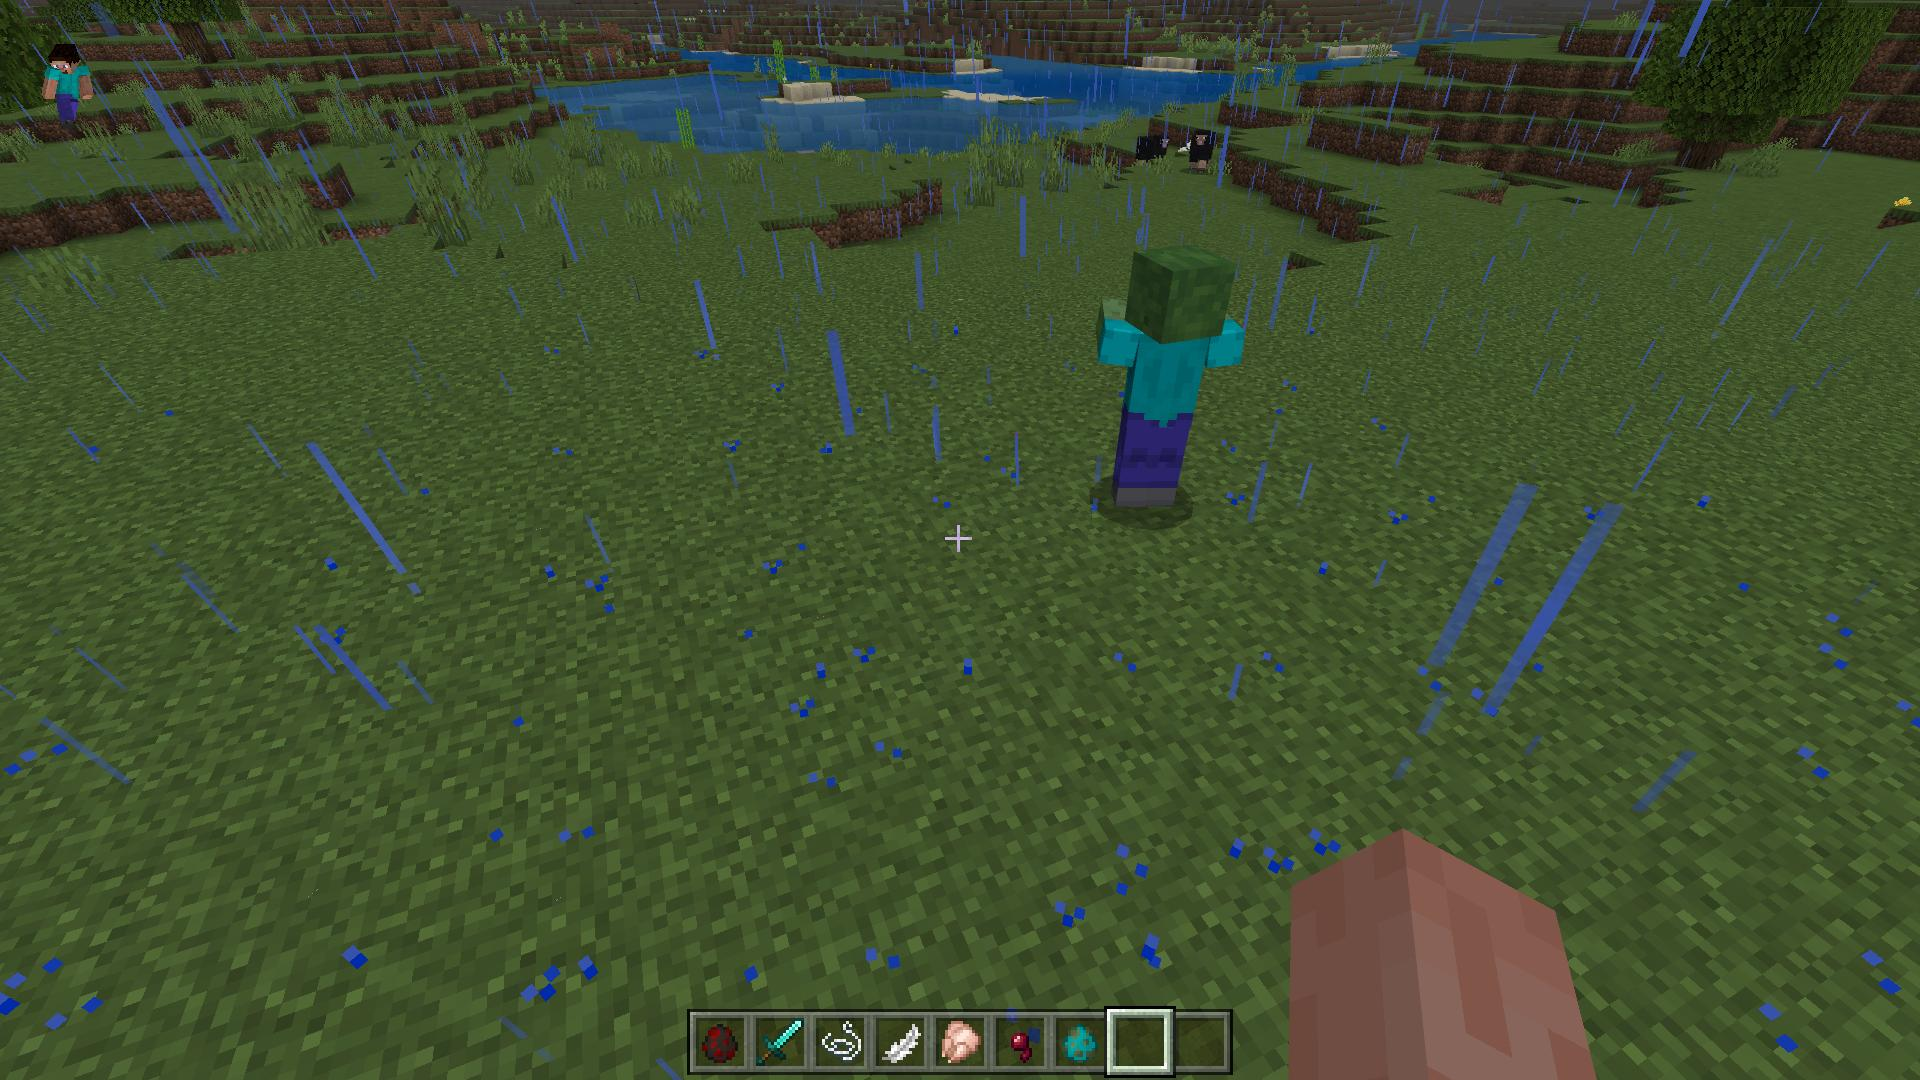zombie: (1097, 241, 1246, 517)
